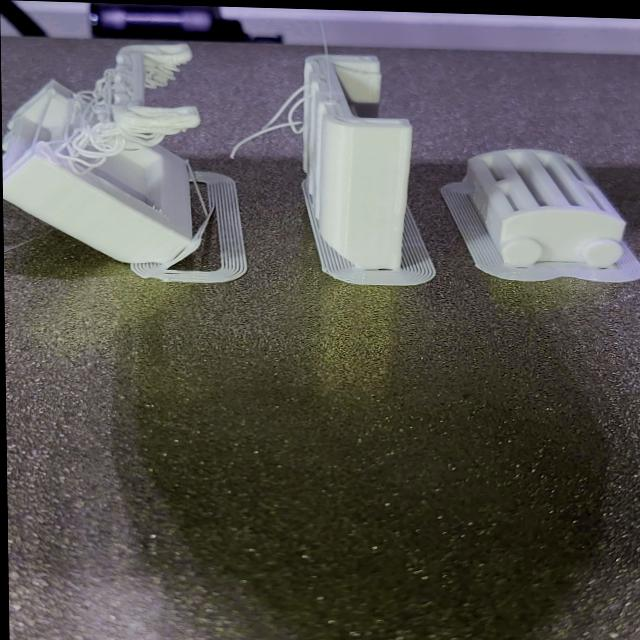spaghetti: (36, 54, 189, 167), (223, 74, 313, 168)
